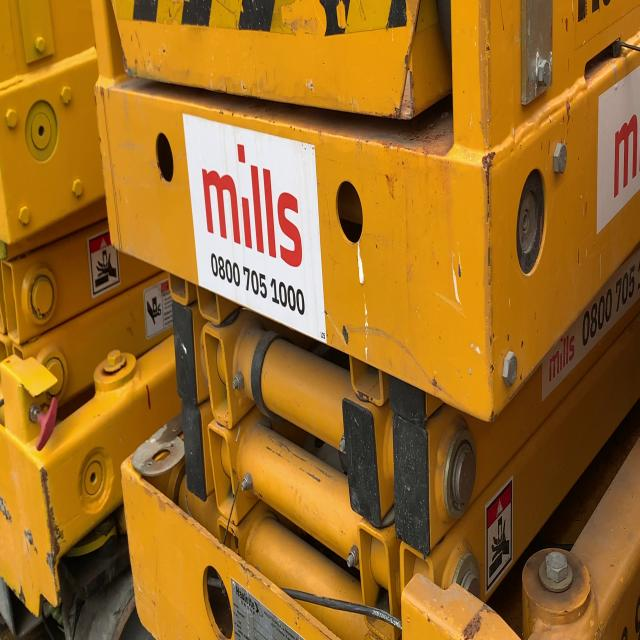Adesivos: (180, 110, 329, 348)
